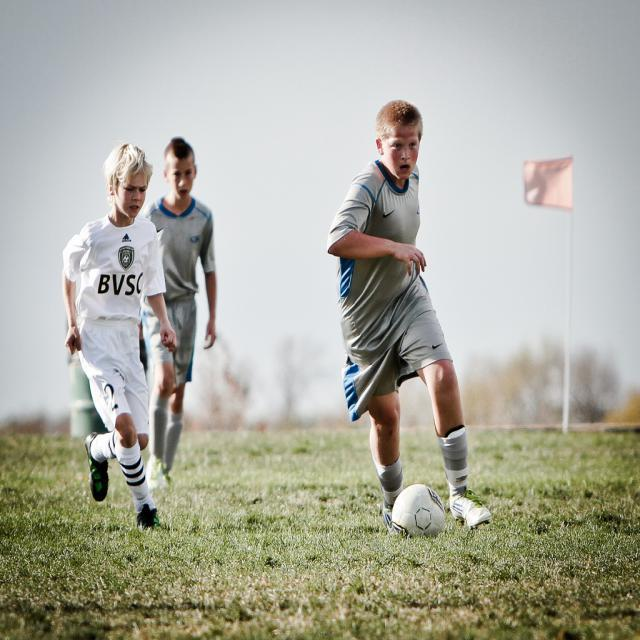football: (388, 475, 451, 556)
